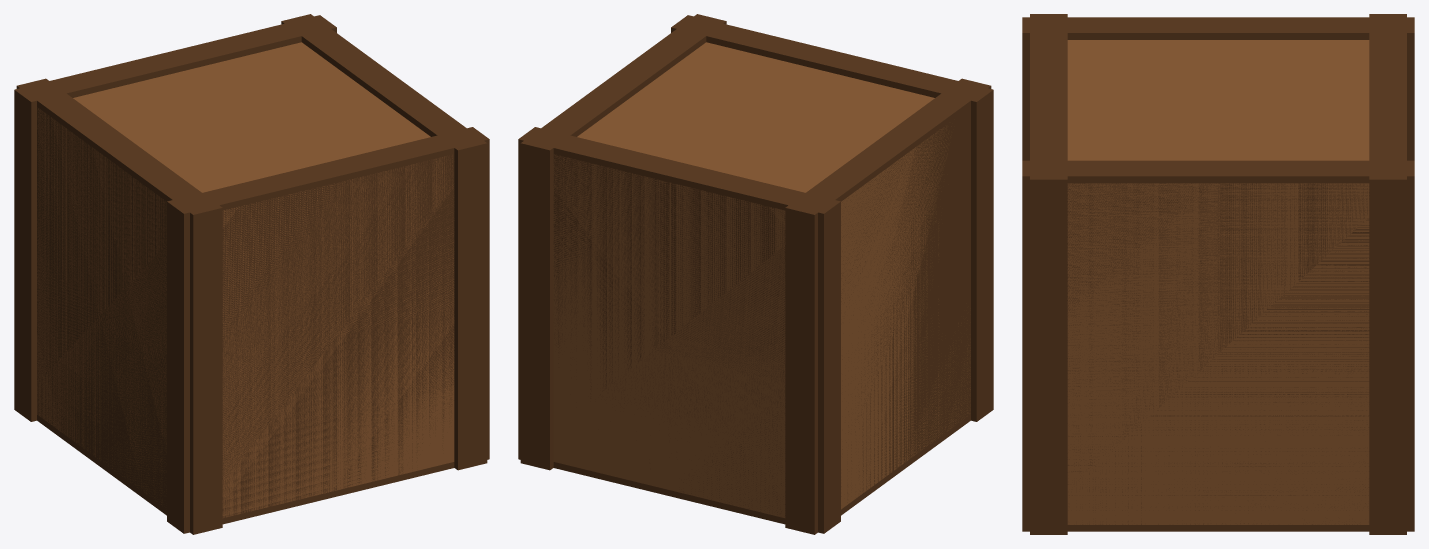
File: prop_crate.glb
The picture shows the model from 3 angles, left to right: view 1: azimuth 30°, elevation 25°; view 2: azimuth 150°, elevation 25°; view 3: azimuth 270°, elevation 25°; orthographic projection. The views are drawn at different scales.
Parts seen in each view (by area): view 1: prop_crate__mesh; view 2: prop_crate__mesh; view 3: prop_crate__mesh.
Part boxes in pixels (x1,y1,x2,y2): prop_crate__mesh: (14,14,489,534); prop_crate__mesh: (518,14,993,534); prop_crate__mesh: (1022,14,1414,534).
Size of the model in its own units: 1.04 by 1.04 by 1.04.
